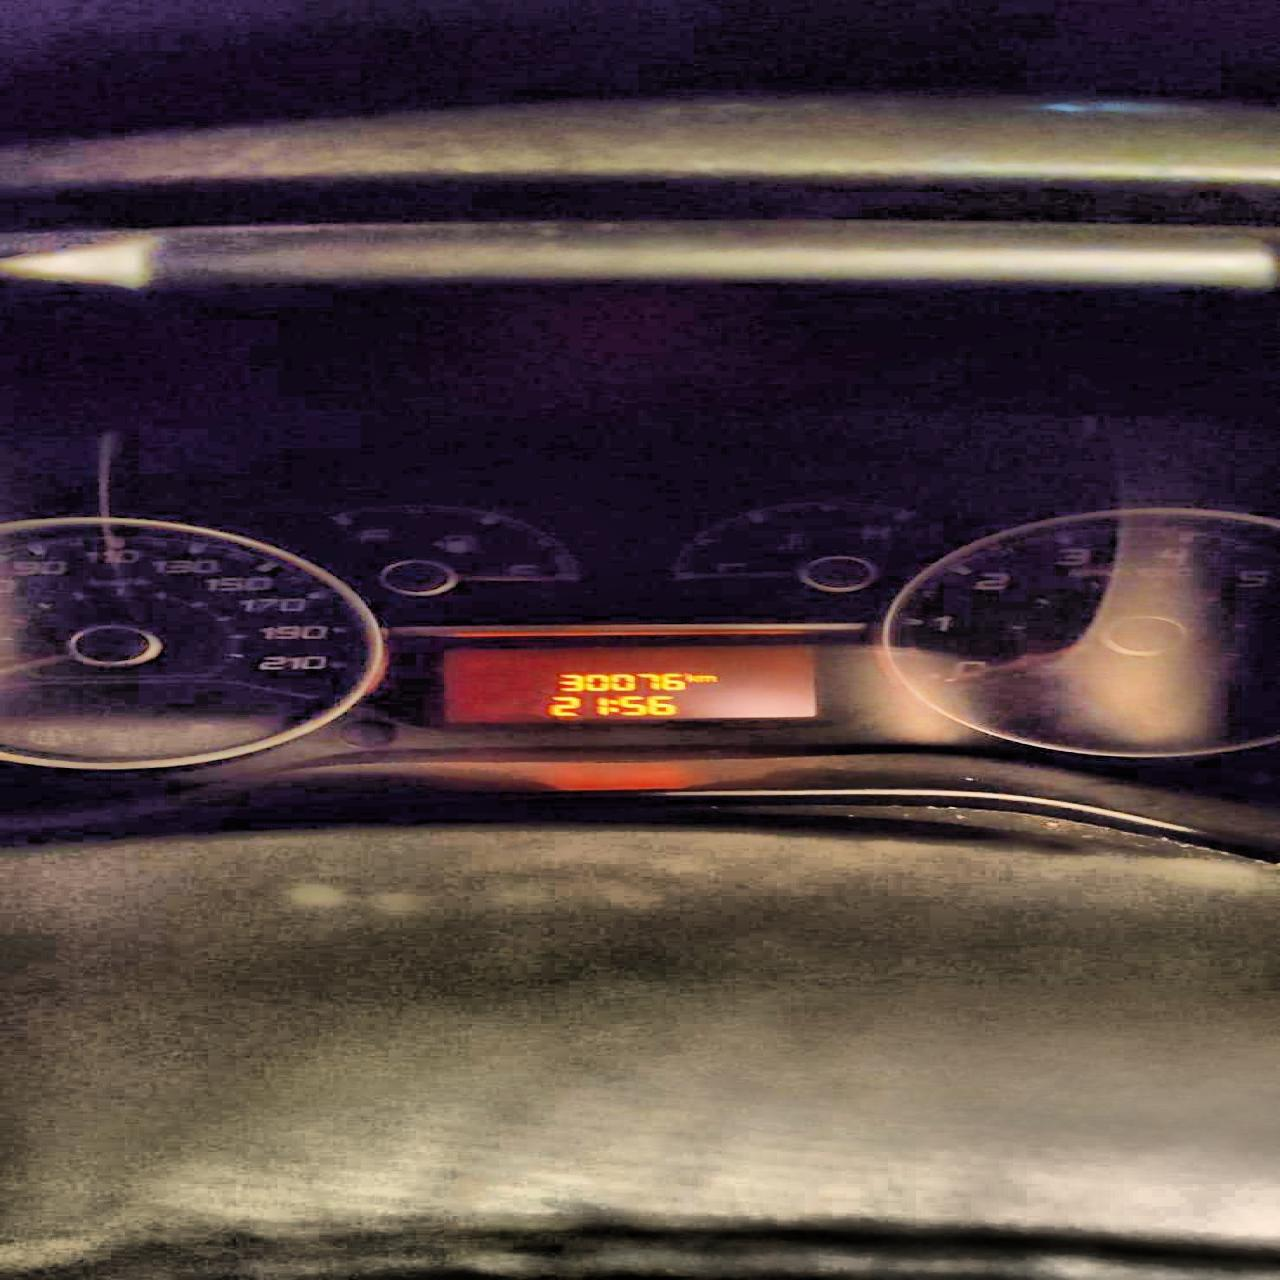0: (583, 673, 610, 692), (608, 673, 636, 690)
1: (591, 696, 608, 715)
2: (549, 696, 581, 716)
3: (557, 674, 585, 690)
5: (619, 695, 647, 715)
6: (647, 694, 678, 715), (659, 672, 685, 690)
7: (636, 673, 659, 689)
X: (699, 674, 720, 681), (608, 697, 618, 713), (686, 673, 701, 682)
odometer: (433, 642, 819, 719)
